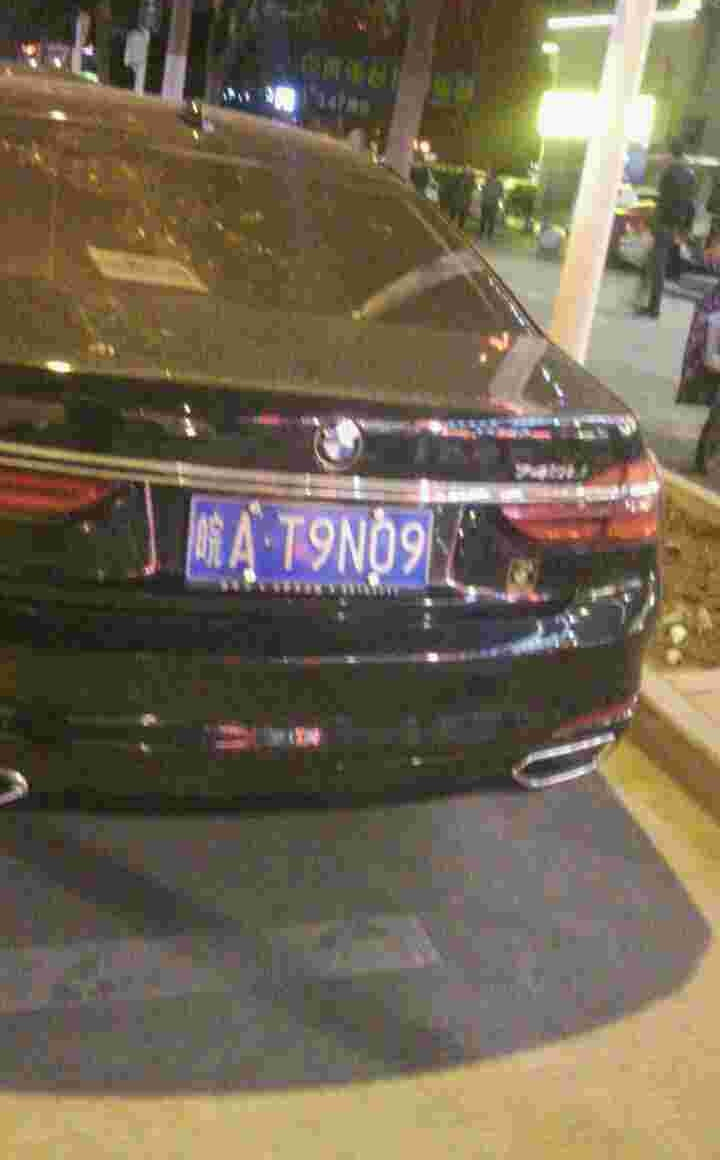license_plate: (185, 498, 430, 588)
